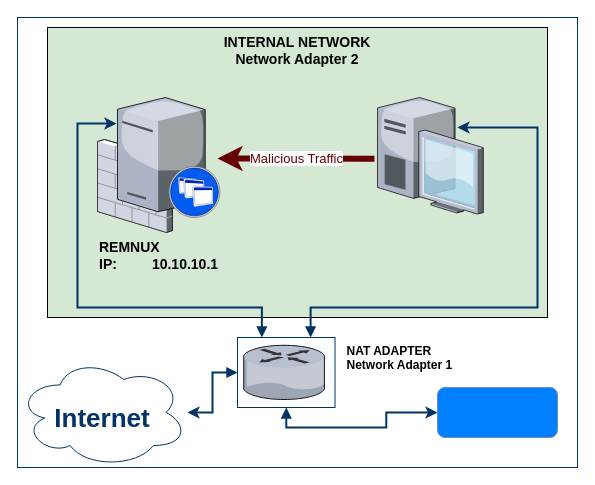
Image size: 595x485. Some labels were removed from this diagram. Each missing label, with the centre of its shape:
Vagrant: the point at 497,412
Windows VM IP: 10.10.10.22 GW: 10.10.10.1 DNS: 10.10.10.1: the point at 430,155
